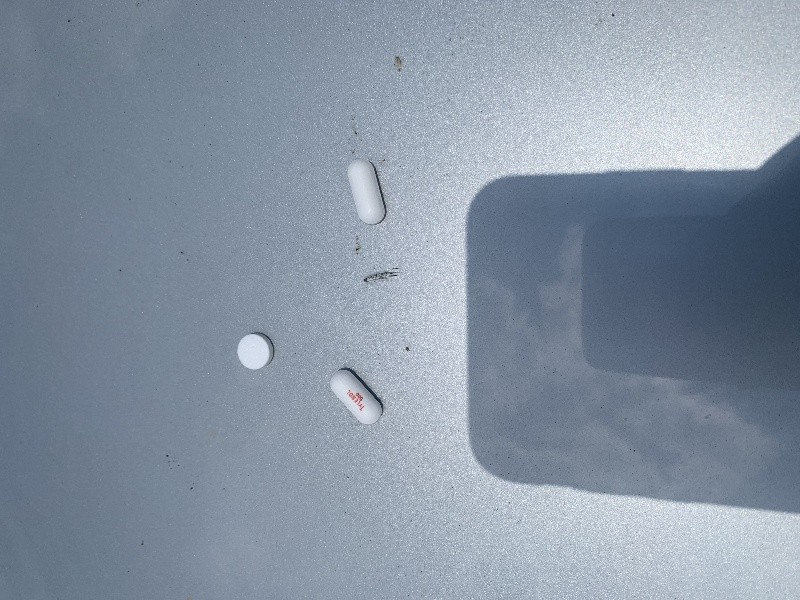Aspirin: (236, 329, 276, 374)
Tylenol: (327, 363, 394, 433), (341, 156, 393, 233)
